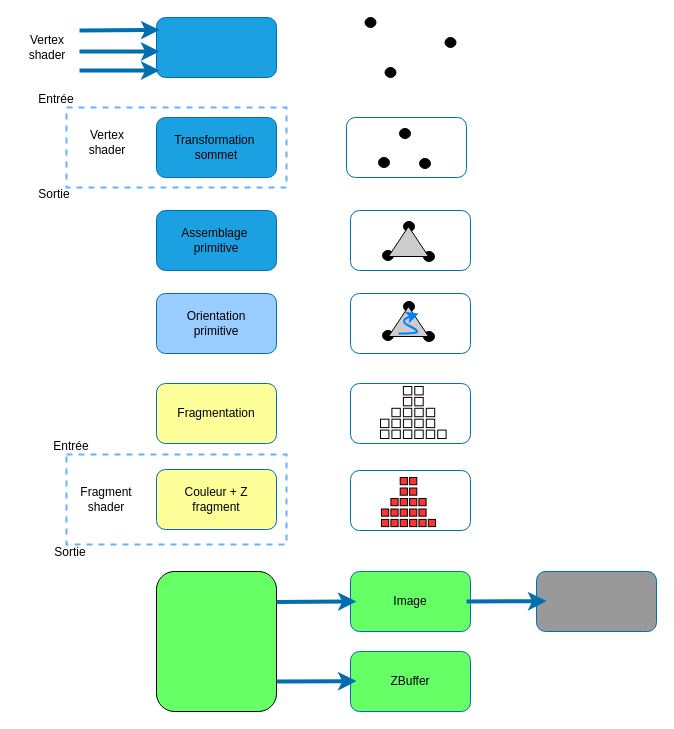
The diagram is 674 pixels wide and 729 high, and some of its shapes have lost their labels. Each missing label, with the centre of its shape:
"Assemblage sommet" goes at point 216,47.
"Fenêtre" goes at point 596,601.
"Tests et Mélange" goes at point 216,641.
